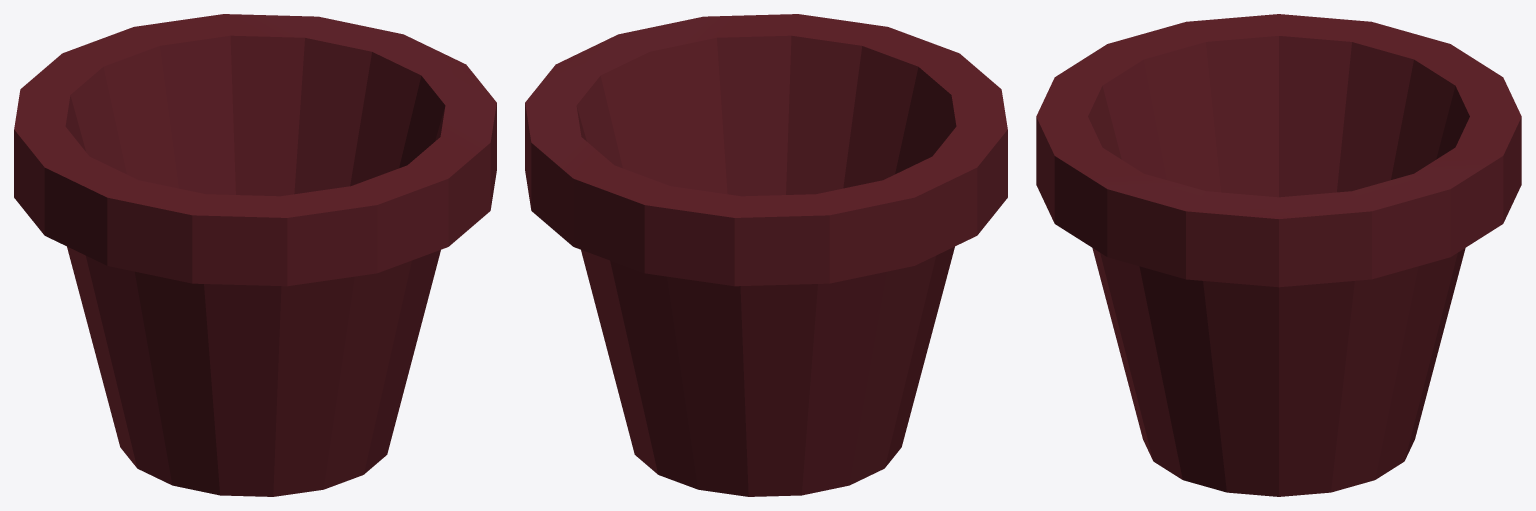
The model's file is Pot.fbx.
3 views of the same model, side by side, from view 1: azimuth 30°, elevation 25°; view 2: azimuth 150°, elevation 25°; view 3: azimuth 270°, elevation 25° (orthographic).
Parts seen in each view (by area): view 1: Cylinder.001; view 2: Cylinder.001; view 3: Cylinder.001.
Part boxes in pixels (box(x1,y1,x2,y2)): Cylinder.001: box(14, 14, 496, 496); Cylinder.001: box(525, 14, 1007, 496); Cylinder.001: box(1036, 14, 1521, 496).
Bounding box in the file's own units: 47 × 34.49 × 47.
